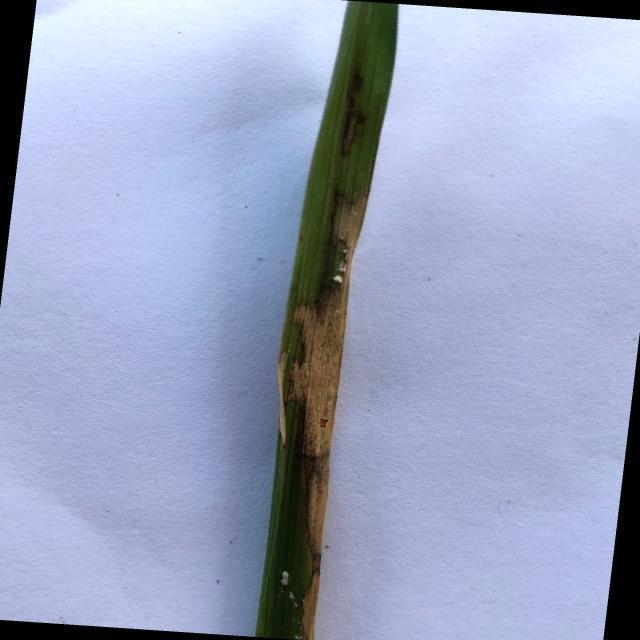Bacterial_Leaf_Blight: (279, 277, 358, 463), (331, 193, 372, 265), (306, 467, 332, 554), (298, 567, 323, 640)
